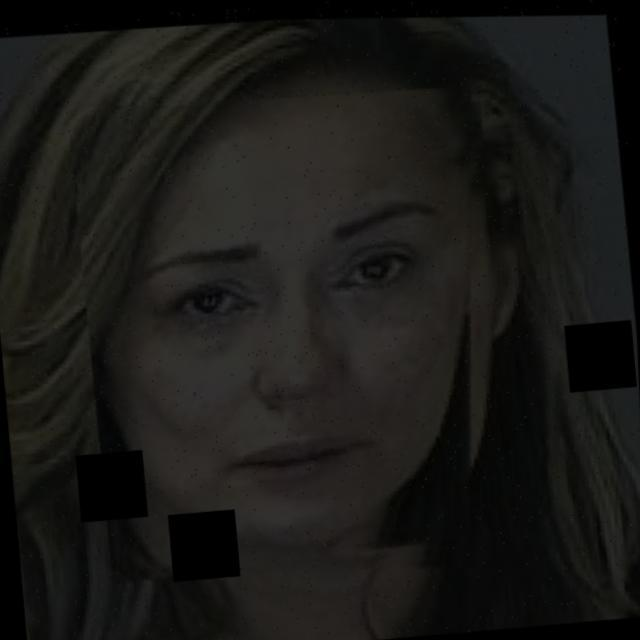Sad: (87, 136, 497, 484)
